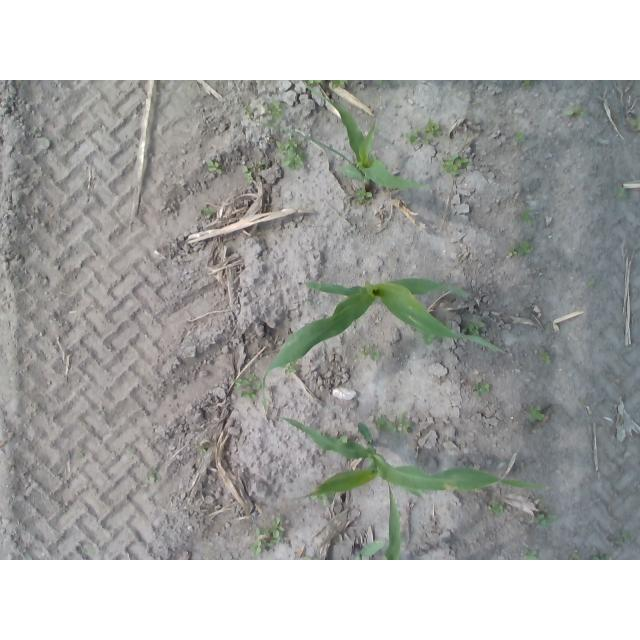Maize: (261, 278, 508, 389), (282, 417, 540, 498), (296, 82, 414, 190), (360, 478, 404, 560)
Weeds: (279, 141, 306, 171), (271, 515, 286, 540), (444, 157, 465, 172), (524, 405, 542, 422), (426, 120, 442, 137), (362, 342, 378, 359), (483, 289, 499, 305), (356, 186, 372, 202), (374, 417, 395, 429), (268, 101, 285, 115), (539, 511, 554, 525), (397, 418, 413, 431), (539, 347, 550, 365), (468, 322, 484, 334), (208, 161, 221, 175), (517, 241, 532, 253), (520, 209, 532, 224), (524, 549, 541, 559), (242, 166, 255, 179), (256, 528, 269, 541), (475, 382, 490, 393), (201, 207, 215, 218), (490, 504, 504, 515), (241, 389, 256, 399), (238, 376, 254, 385), (283, 363, 297, 373), (408, 130, 419, 142), (249, 541, 261, 552), (568, 107, 581, 117), (517, 132, 527, 144), (618, 184, 626, 197), (590, 554, 607, 560), (509, 247, 517, 257), (589, 274, 595, 287)
